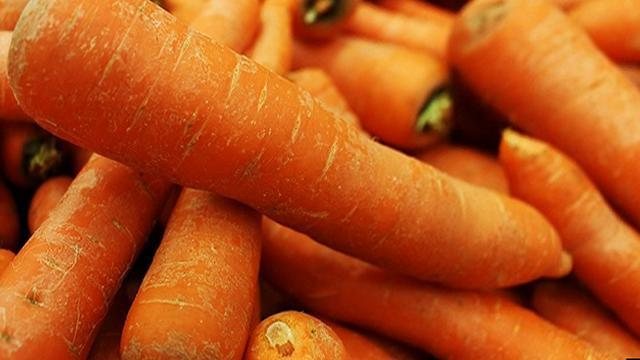carrot: (19, 0, 632, 301), (242, 12, 630, 357), (39, 150, 277, 360)
